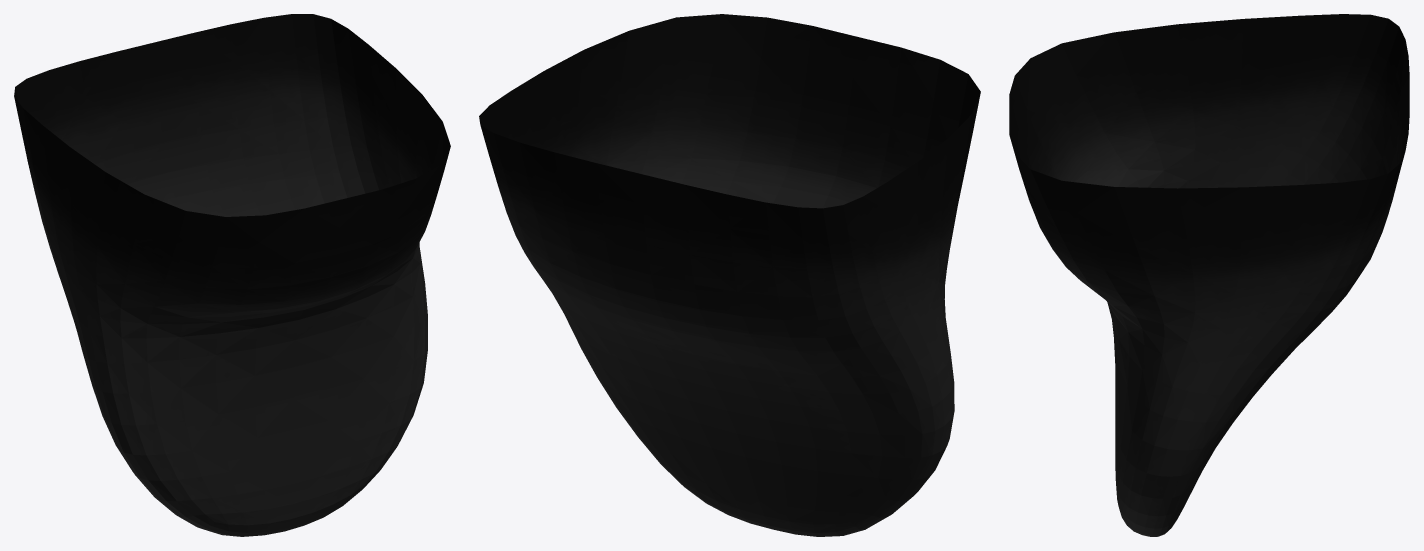
File: trigger0.obj
3 views of the same model, side by side, from view 1: azimuth 30°, elevation 25°; view 2: azimuth 150°, elevation 25°; view 3: azimuth 270°, elevation 25° (orthographic). The views are drawn at different scales.
Size of the model in its own units: 0.0191 by 0.0222 by 0.0191.
1 material, 1 textured.
